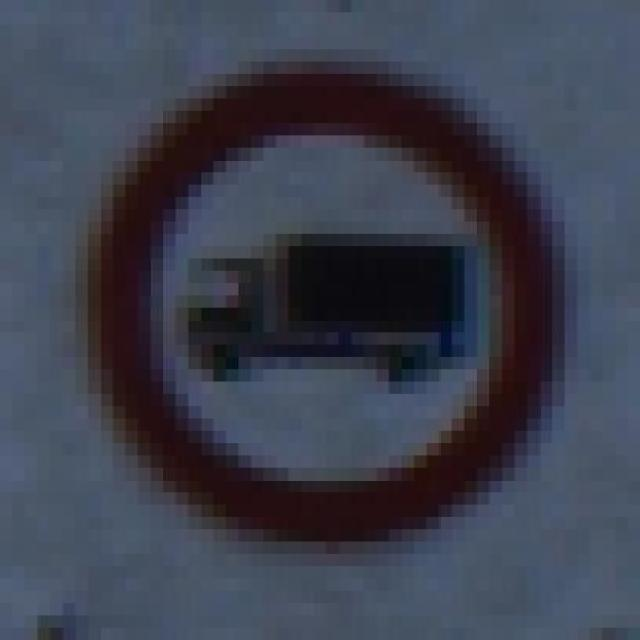Truck traffic is prohibited: (75, 37, 578, 554)
